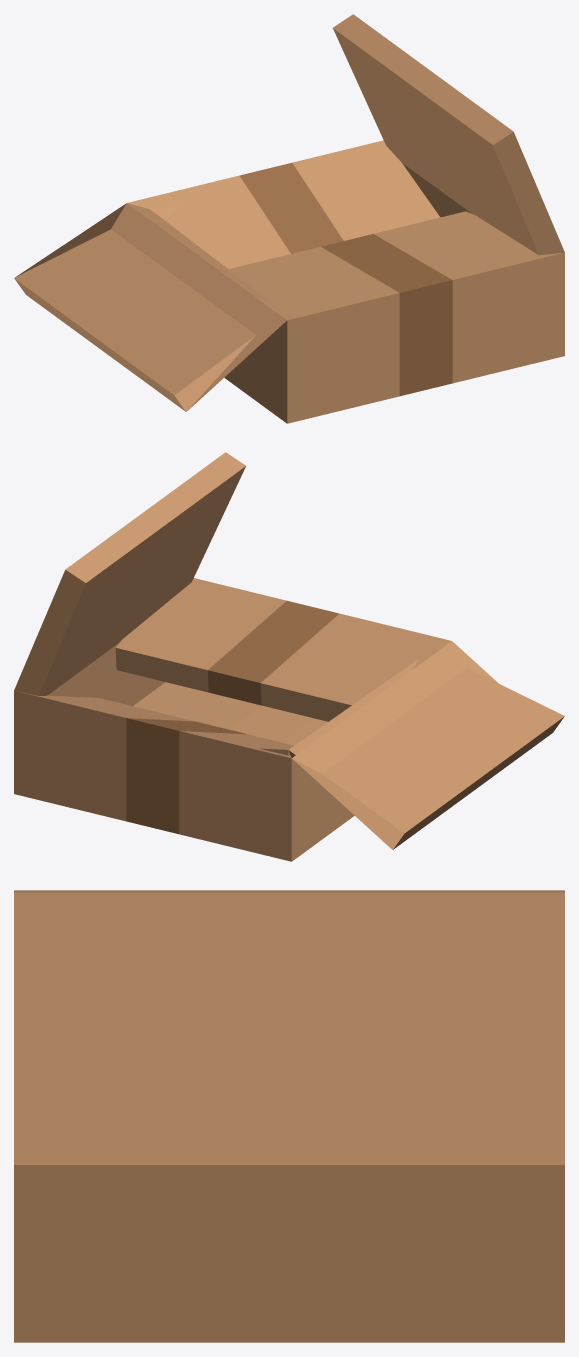
The model's file is BoxOpen4.fbx.
The picture shows the model from 3 angles, top to bottom: view 1: azimuth 30°, elevation 25°; view 2: azimuth 150°, elevation 25°; view 3: azimuth 270°, elevation 25°; orthographic projection. The views are drawn at different scales.
Visible parts, largest first — view 1: BoxOpen4; view 2: BoxOpen4; view 3: BoxOpen4.
Part boxes in pixels (x1,y1,x2,y2): BoxOpen4: (14,14,564,423); BoxOpen4: (14,452,564,861); BoxOpen4: (14,890,564,1342).
Size of the model in its own units: 88.76 by 51.47 by 63.12.
Materials: 1 (1 with a texture image).
